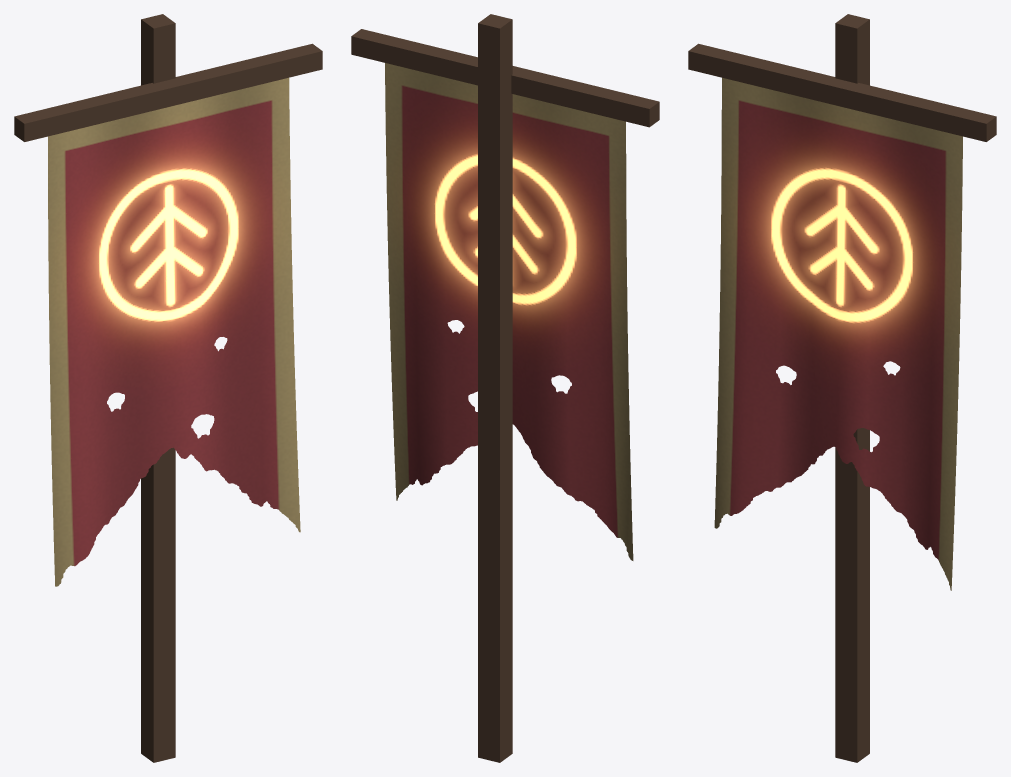
File: banner.gltf
The picture shows the model from 3 angles, left to right: view 1: azimuth 30°, elevation 25°; view 2: azimuth 150°, elevation 25°; view 3: azimuth 330°, elevation 25°; orthographic projection.
Visible parts, largest first — view 1: banner; view 2: banner; view 3: banner.
Boxes of the visible parts, bbox=[...] form: banner: bbox=[14, 14, 322, 762]; banner: bbox=[351, 14, 659, 762]; banner: bbox=[688, 14, 996, 762].
Bounding box in the file's own units: 1.36 × 3.2 × 0.2246.
2 materials, 1 textured.
